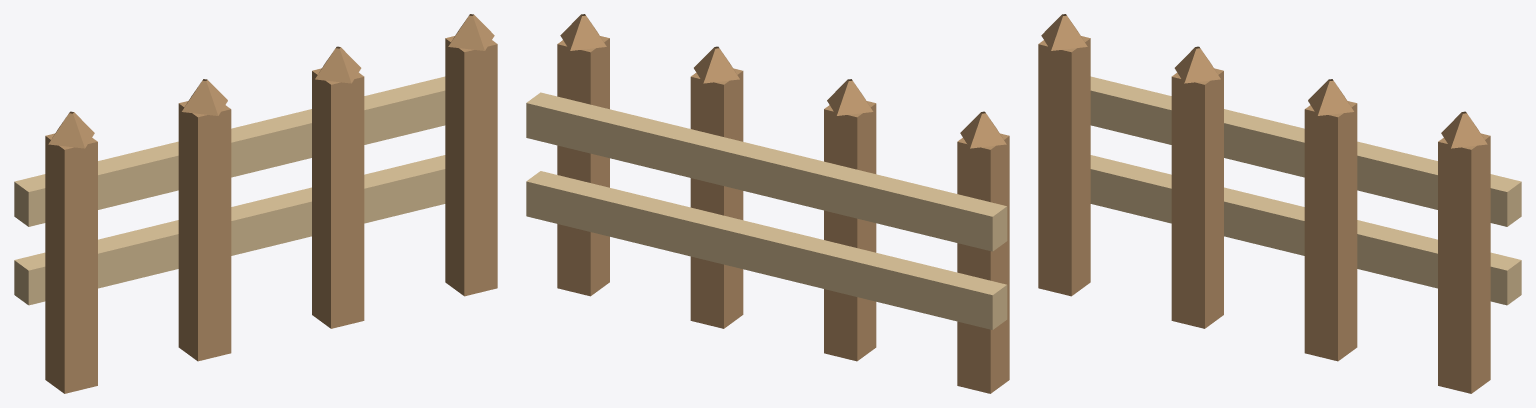
File: deco_fence.obj
The picture shows the model from 3 angles, left to right: view 1: azimuth 30°, elevation 25°; view 2: azimuth 150°, elevation 25°; view 3: azimuth 330°, elevation 25°; orthographic projection.
Parts seen in each view (by area): view 1: deco_fence; view 2: deco_fence; view 3: deco_fence.
Part boxes in pixels (<box>): deco_fence: <box>14,14,497,393</box>; deco_fence: <box>526,14,1009,393</box>; deco_fence: <box>1038,14,1521,393</box>.
Bounding box in the file's own units: 0.056 × 0.031 × 0.0078.
1 material, 1 textured.
